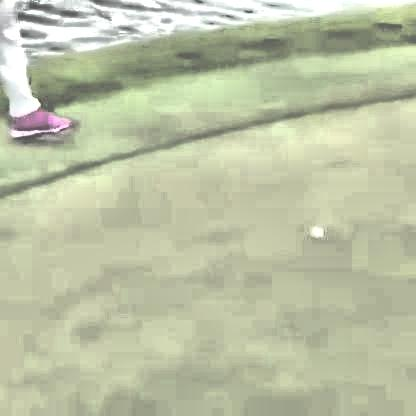golfball: (306, 223, 322, 236)
